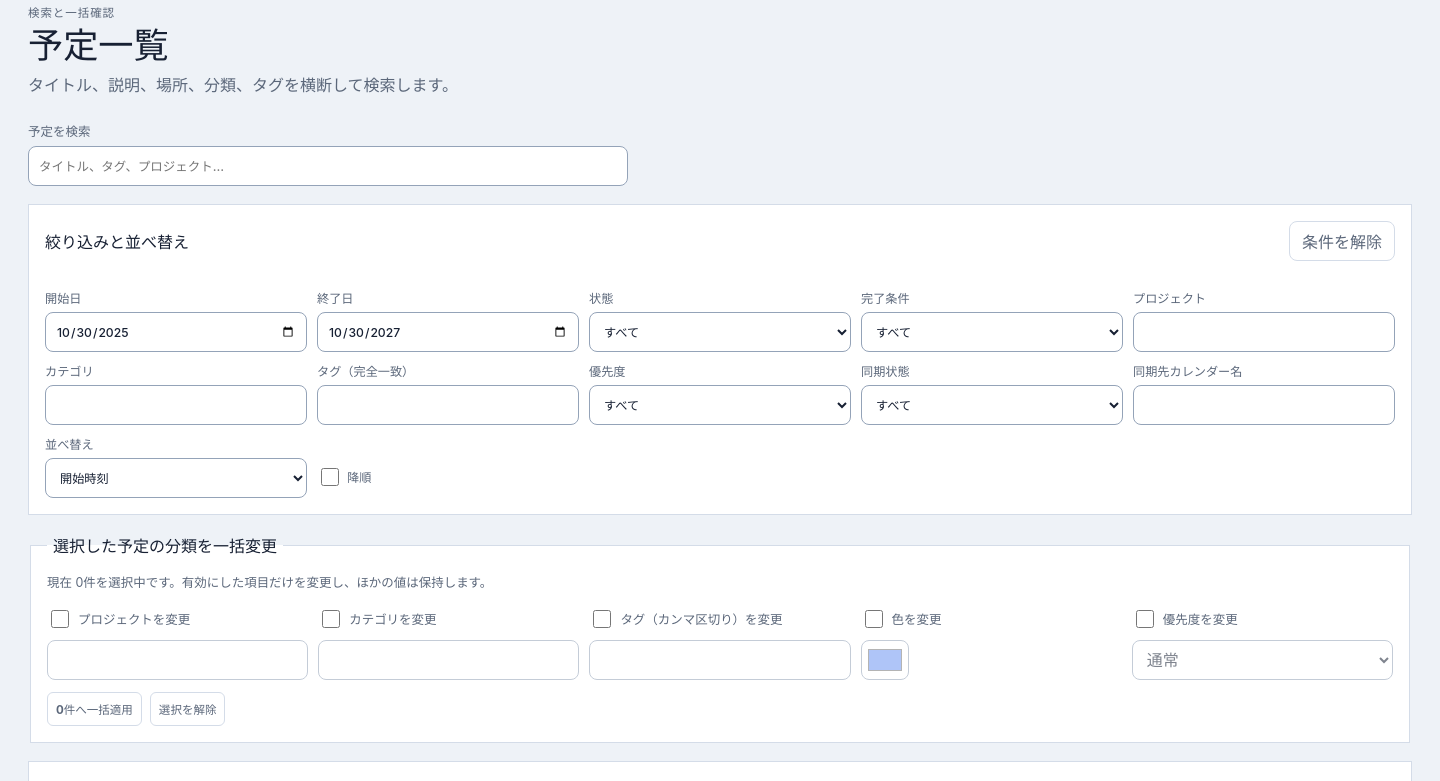
it: ListView bulk classification › updates only selected schedules and enabled fields
Type "2026-08-02" into the date field labelled "開始日" at x=176, y=332, box [45, 312, 307, 352]
Type "2026-08-04" into the date field labelled "終了日" at x=448, y=332, box [317, 312, 579, 352]
(page scrolled)
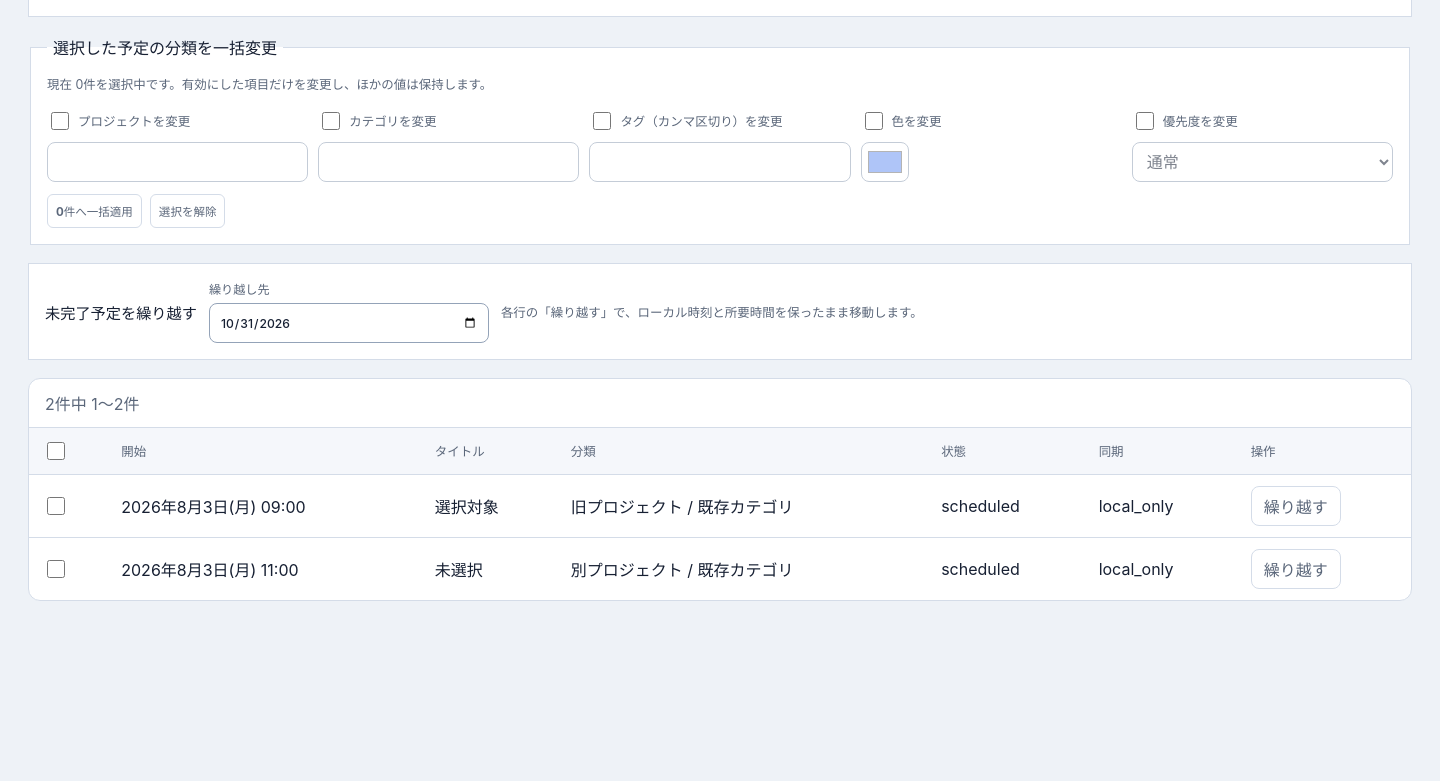
Click the checkbox named "選択対象を一括変更の対象にする" at x=56, y=506, box [47, 497, 65, 515]
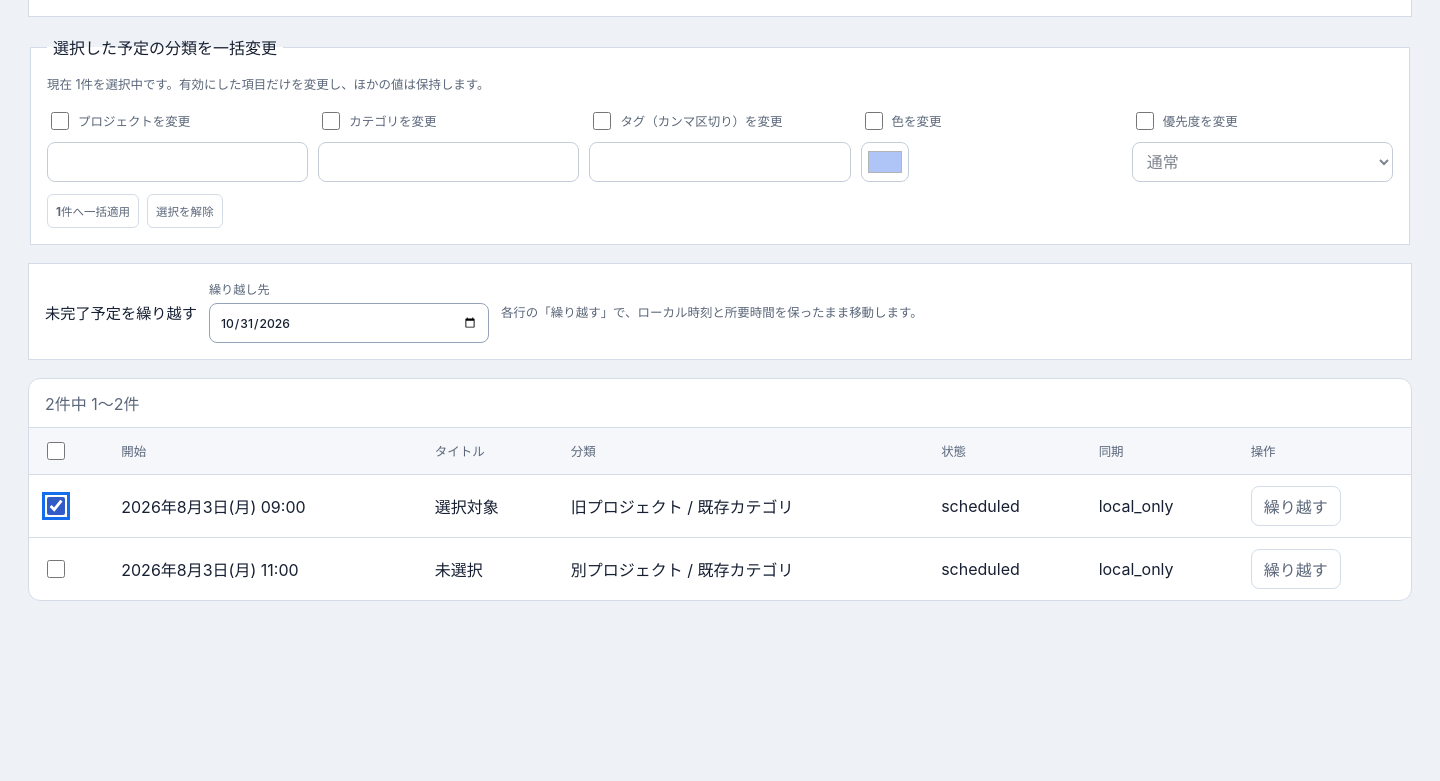
Check: the checkbox named "未選択を一括変更の対象にする" is not checked, box [47, 560, 65, 578]
Check: the checkbox named "選択対象を一括変更の対象にする" is checked, box [47, 497, 65, 515]
Click the checkbox labelled "プロジェクトを変更" at x=60, y=121, box [51, 112, 69, 130]
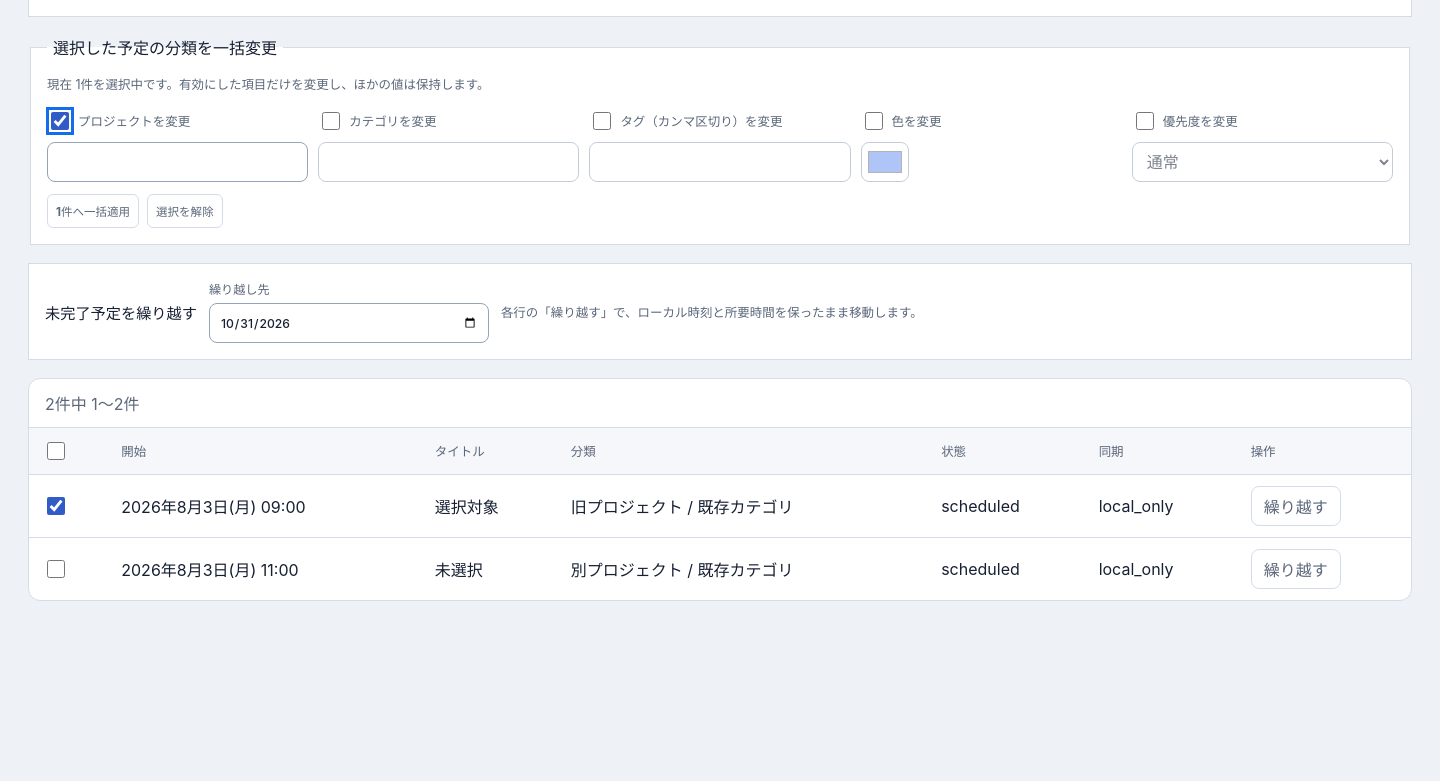
Check: the element "プロジェクトを変更" is shown, box [47, 105, 308, 182]
Type "  新プロジェクト  " into the 1st field at x=178, y=162, box [47, 142, 308, 182]
Click the checkbox labelled "タグ（カンマ区切り）を変更" at x=602, y=121, box [593, 112, 611, 130]
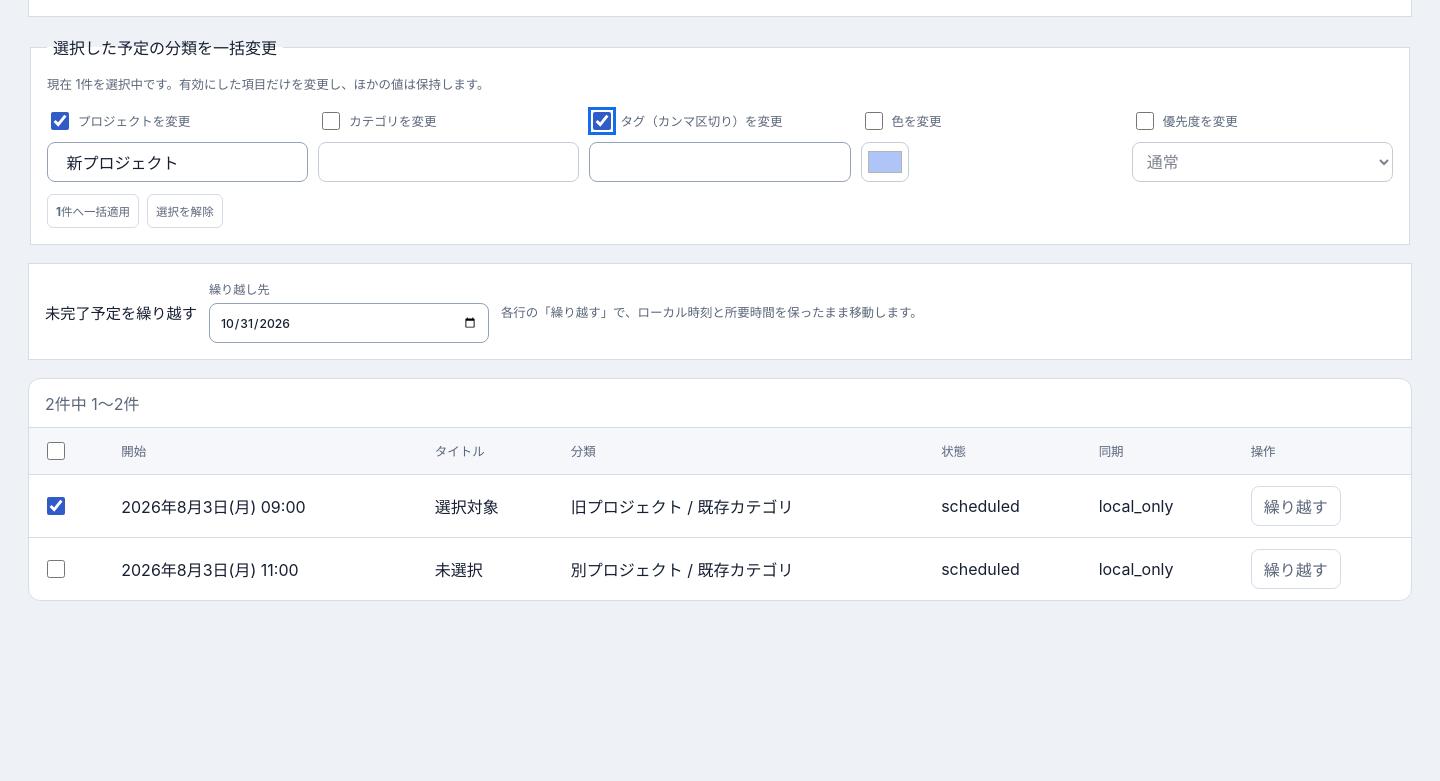
Check: the element "タグ（カンマ区切り）を変更" is shown, box [589, 105, 851, 182]
Type "alpha, , beta, alpha" into the field below "タグ（カンマ区切り）" at x=720, y=162, box [589, 142, 851, 182]
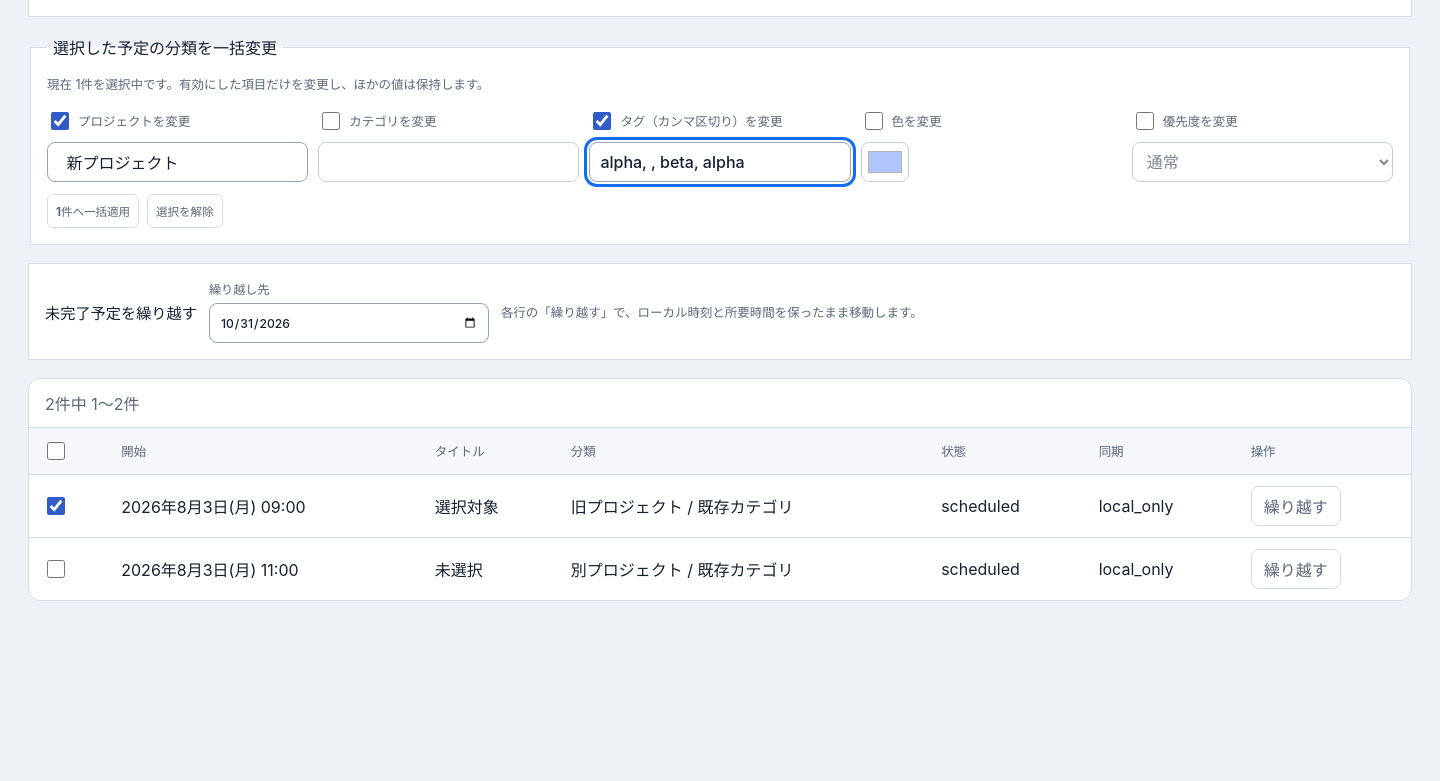
Click the button "1件へ一括適用" at x=93, y=211, box [47, 194, 139, 228]
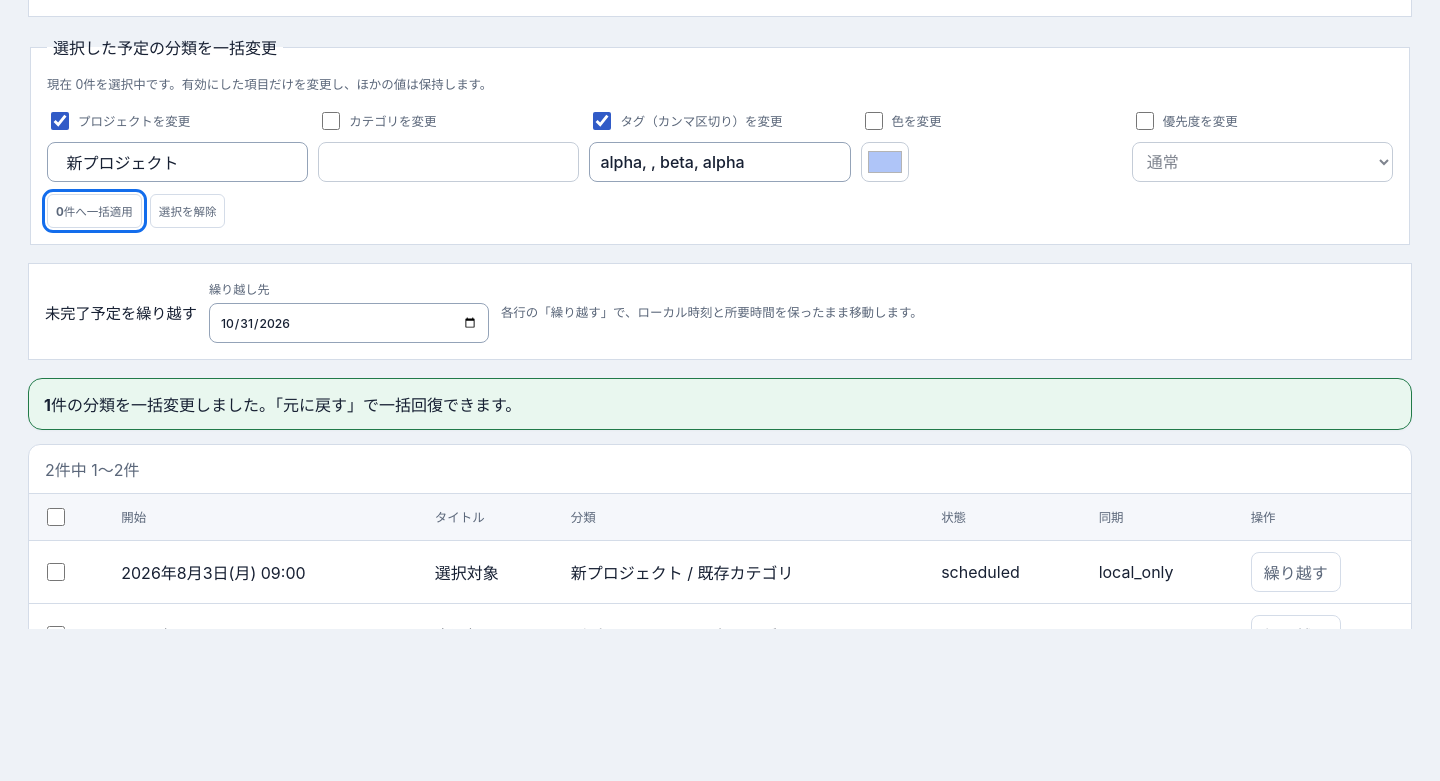
Check: the checkbox named "選択対象を一括変更の対象にする" is not checked, box [47, 563, 65, 581]
Check: the text "1件の分類を一括変更しました。「元に戻す」で一括回復できます。" is shown, box [44, 395, 521, 415]
